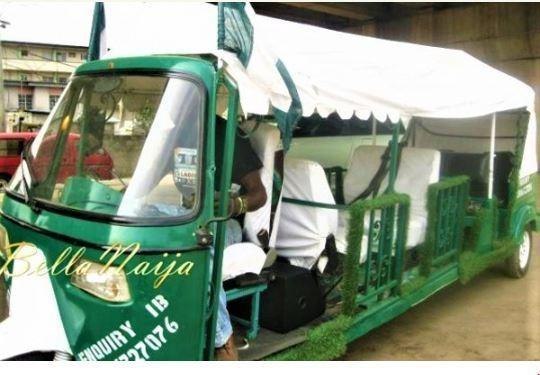keke: (0, 45, 265, 364)
